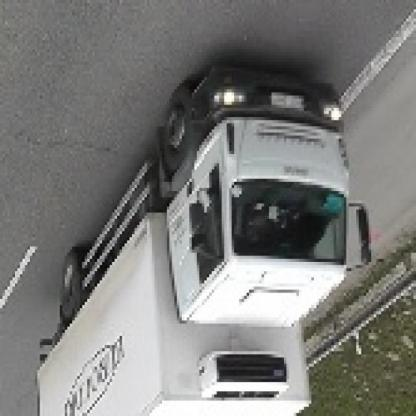truck: (33, 66, 369, 416)
